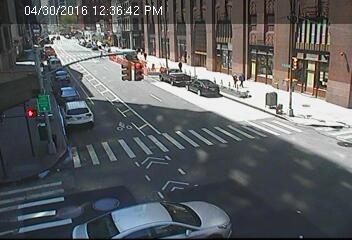neg: (66, 94, 82, 116), (109, 149, 124, 169), (75, 46, 90, 66), (189, 136, 203, 154), (187, 70, 200, 87), (267, 57, 280, 73), (149, 110, 159, 122), (26, 105, 34, 116)
pos: (230, 71, 243, 87), (235, 72, 246, 87), (176, 59, 184, 71), (141, 49, 149, 61)
